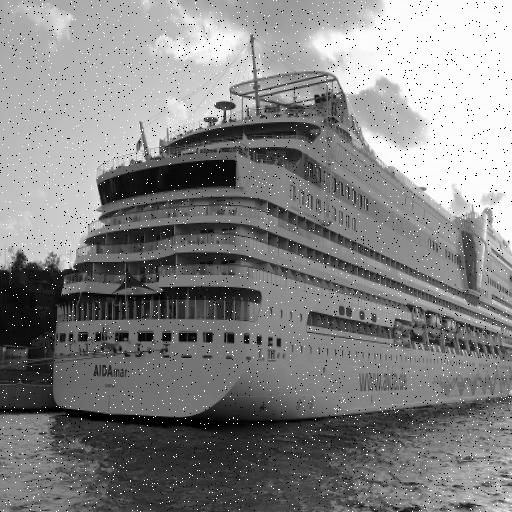cruises: (48, 34, 512, 435)
